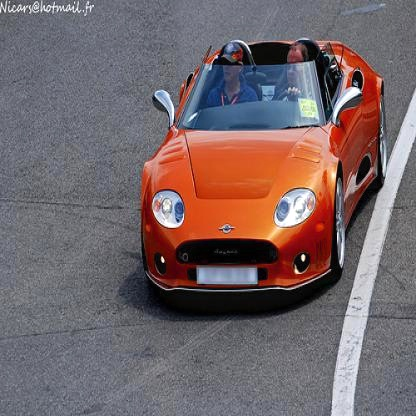Vehicle: (137, 37, 388, 310)
